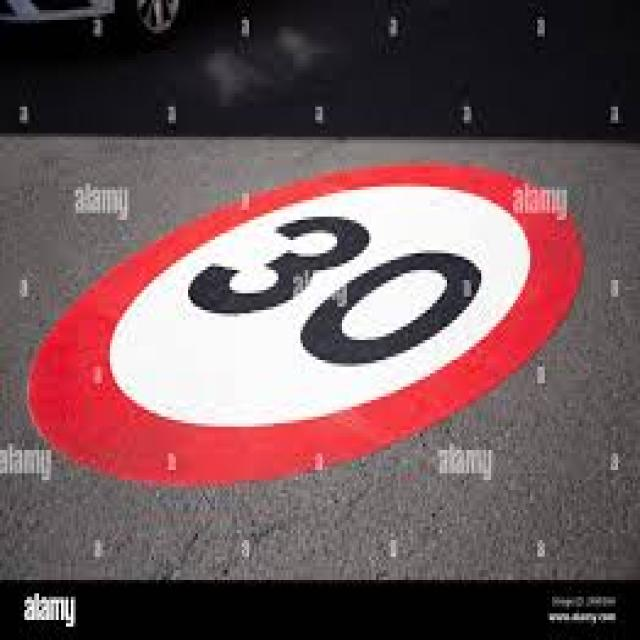speed_30: (24, 171, 584, 494)
